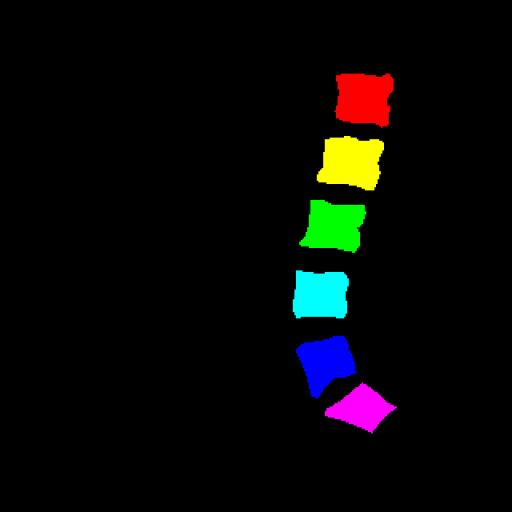L1: (335, 74, 394, 127)
L2: (317, 136, 384, 190)
L3: (299, 200, 365, 252)
L4: (293, 270, 349, 318)
L5: (296, 336, 356, 398)
S1: (325, 383, 396, 433)
